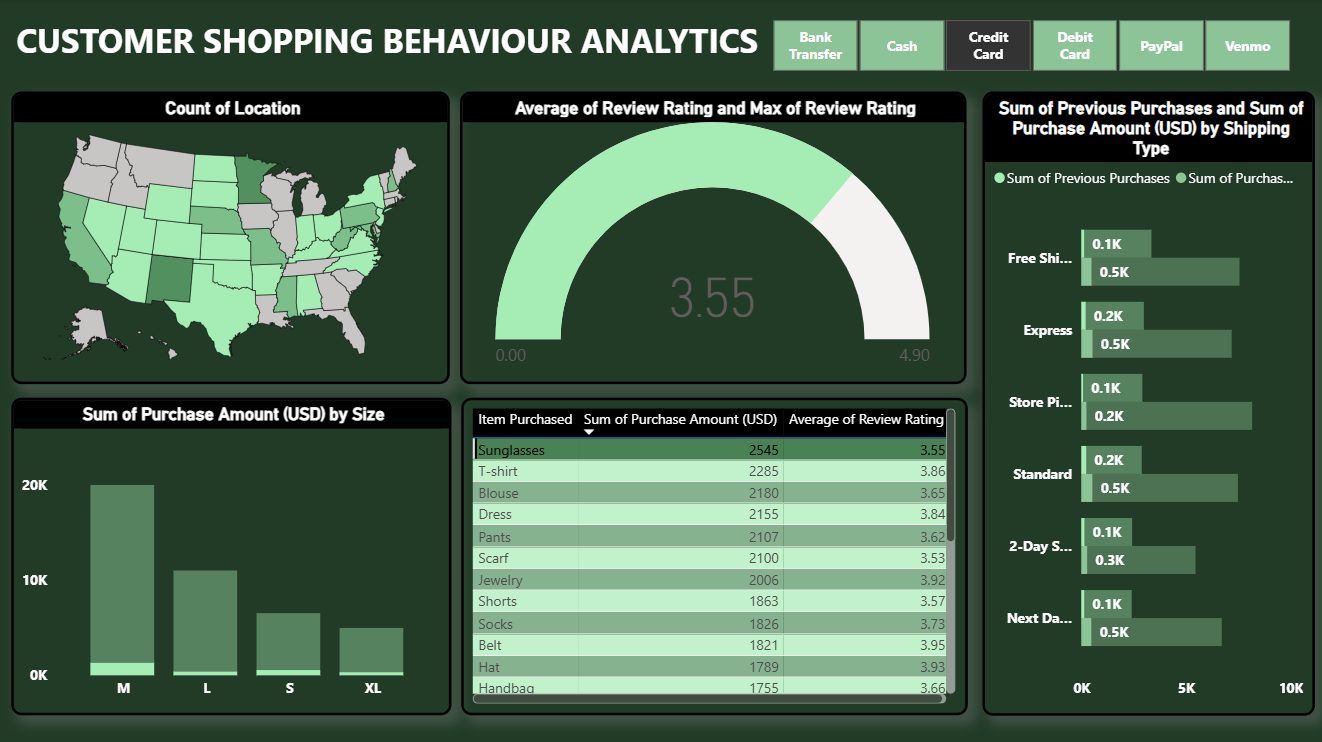

The dashboard page shown, as its layout file describes it:
{"tool":"powerbi","page":{"name":"Page 1","canvas":[1280,720],"ordinal":0},"visuals":[{"type":"textbox","box":[10.9,13.3,731.1,62.7],"z":0},{"type":"shapeMap","title":"Count of Location","fields":{"Value":["CountNonNull(shopping_trends.Location)"],"Category":["shopping_trends.Location"]},"box":[10.9,89.3,423.5,282.3],"z":1000},{"type":"gauge","fields":{"Y":["Avg(shopping_trends.Review Rating)"],"MaxValue":["Max(shopping_trends.Review Rating)1"]},"box":[444,89.3,488.6,282.3],"z":2000},{"type":"clusteredColumnChart","fields":{"Y":["Sum(shopping_trends.Purchase Amount (USD))"],"Category":["shopping_trends.Size"]},"box":[10.9,384.9,424.7,306.4],"z":3000},{"type":"tableEx","fields":{"Values":["shopping_trends.Item Purchased","Sum(shopping_trends.Purchase Amount (USD))","Avg(shopping_trends.Review Rating)"]},"box":[445.2,384.9,488.6,306.4],"z":4000},{"type":"clusteredBarChart","fields":{"Category":["shopping_trends.Shipping Type"],"Y":["Sum(shopping_trends.Previous Purchases)","Sum(shopping_trends.Purchase Amount (USD))"]},"box":[948.3,89.3,320.9,602],"z":5000},{"type":"slicer","fields":{"Values":["shopping_trends.Payment Method"]},"box":[720.2,13.3,548.9,62.7],"z":6000}]}

Visuals, with their boxes in screenshot pixels (x1, y1, x2, y2), scaled from the page's 1280x720 canvas onto the 1322x742 screenshot:
textbox: (11,14,766,78)
"Count of Location" shapeMap: (11,92,449,383)
gauge - Avg(shopping_trends.Review Rating) x Max(shopping_trends.Review Rating)1: (459,92,963,383)
clusteredColumnChart - Sum(shopping_trends.Purchase Amount (USD)) x shopping_trends.Size: (11,397,450,712)
tableEx - shopping_trends.Item Purchased x Sum(shopping_trends.Purchase Amount (USD)): (460,397,964,712)
clusteredBarChart - shopping_trends.Shipping Type x Sum(shopping_trends.Previous Purchases): (979,92,1311,712)
slicer - shopping_trends.Payment Method: (744,14,1311,78)
